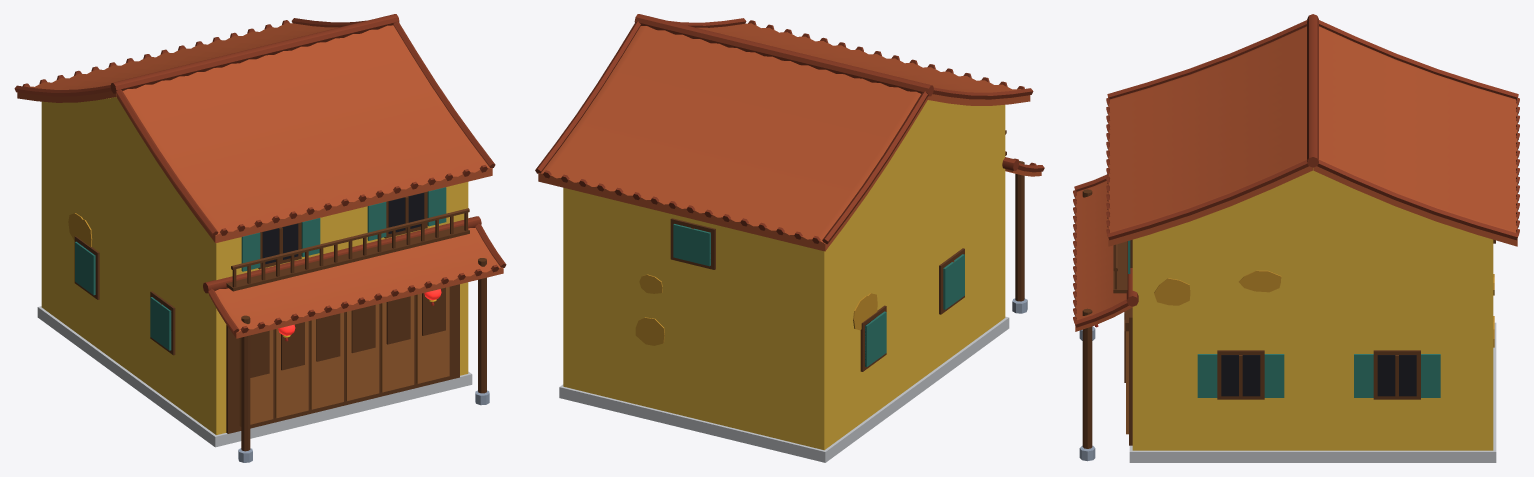
Rendered from hoian_house.glb.
3 views of the same model, side by side, from view 1: azimuth 30°, elevation 25°; view 2: azimuth 150°, elevation 25°; view 3: azimuth 270°, elevation 25° (orthographic). The views are drawn at different scales.
Visible parts, largest first — view 1: hoian_house; view 2: hoian_house; view 3: hoian_house.
Boxes of the visible parts, x1=… form: hoian_house: x1=14, y1=14, x2=506, y2=462; hoian_house: x1=535, y1=14, x2=1044, y2=462; hoian_house: x1=1073, y1=14, x2=1519, y2=462.
Bounding box in the file's own units: 5.62 × 5.74 × 7.43.
